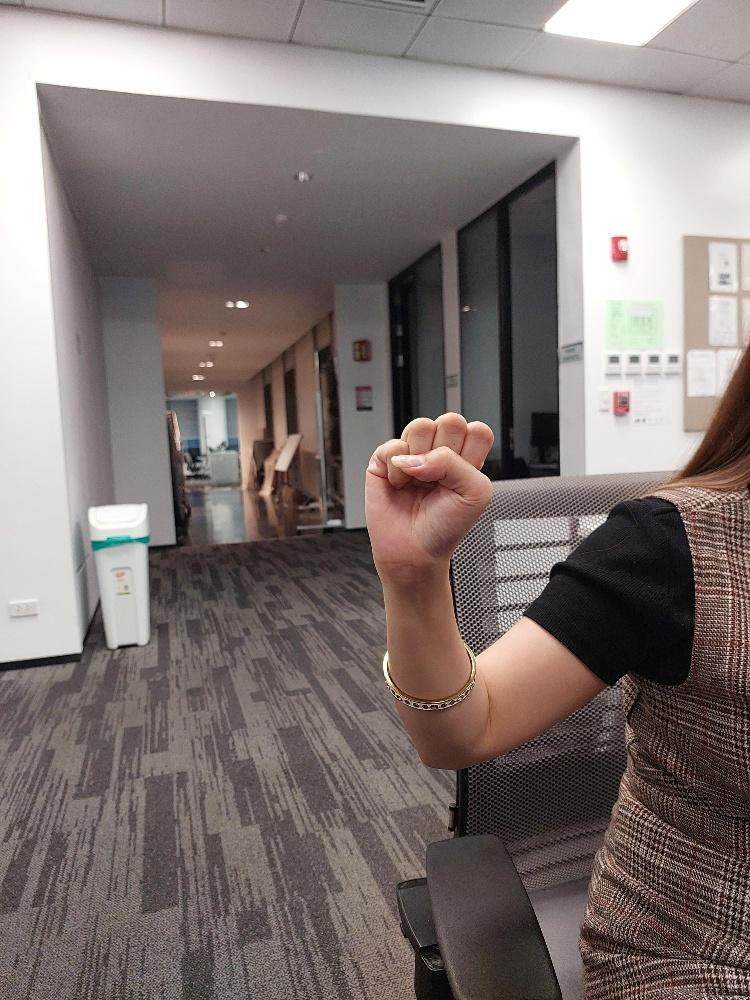s: (361, 409, 498, 578)
